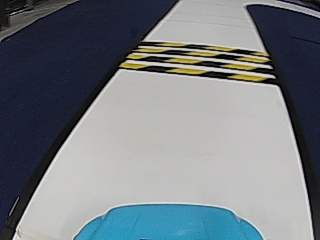bump: (139, 42, 257, 83)
